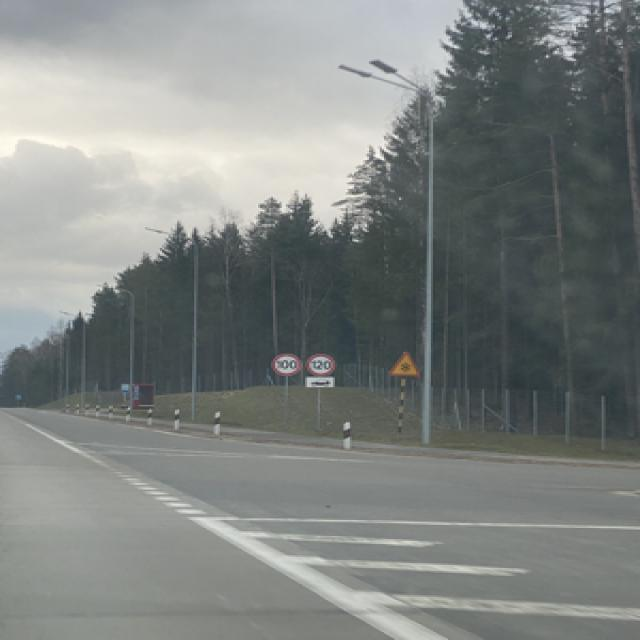speedlimit: (269, 352, 301, 373), (305, 353, 331, 372)
